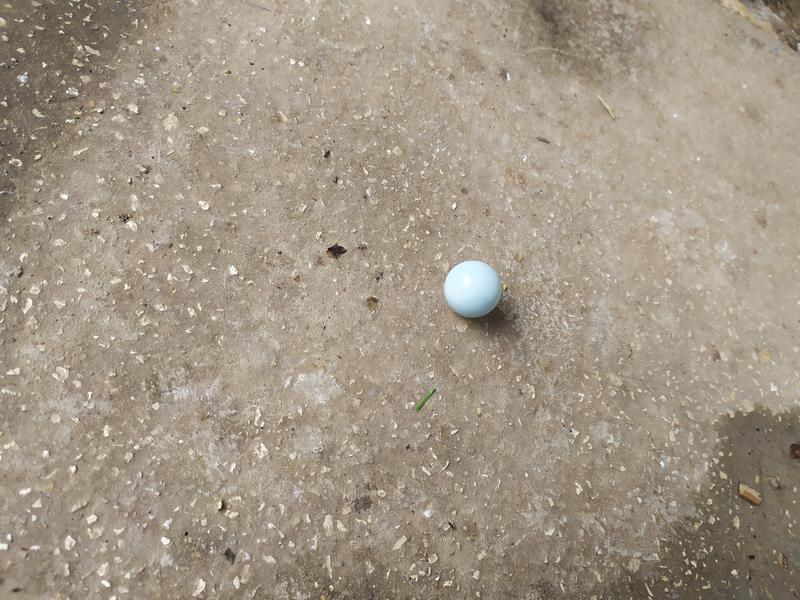Warning: (441, 258, 505, 321)
